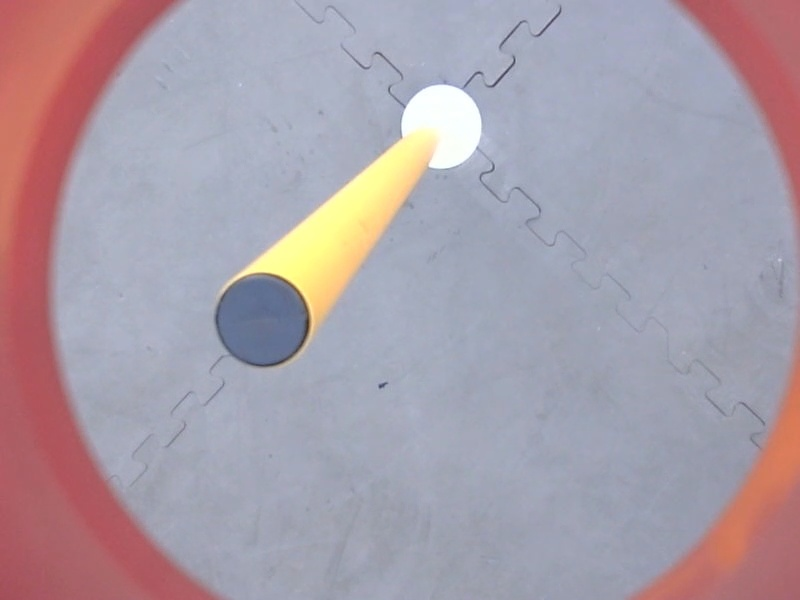tip: (207, 266, 319, 378)
